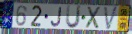2: (31, 5, 43, 28)
6: (15, 5, 28, 27)
J: (50, 7, 63, 28)
U: (65, 5, 83, 30)
V: (103, 6, 119, 32)
X: (85, 6, 102, 30)
